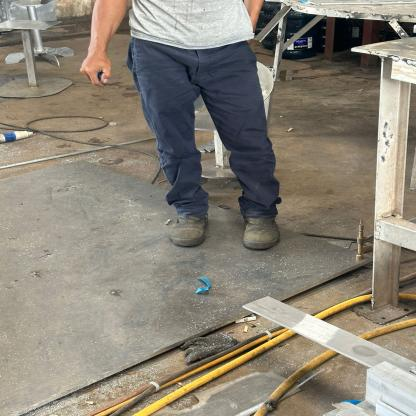bota: (231, 205, 299, 254), (163, 202, 217, 250)
